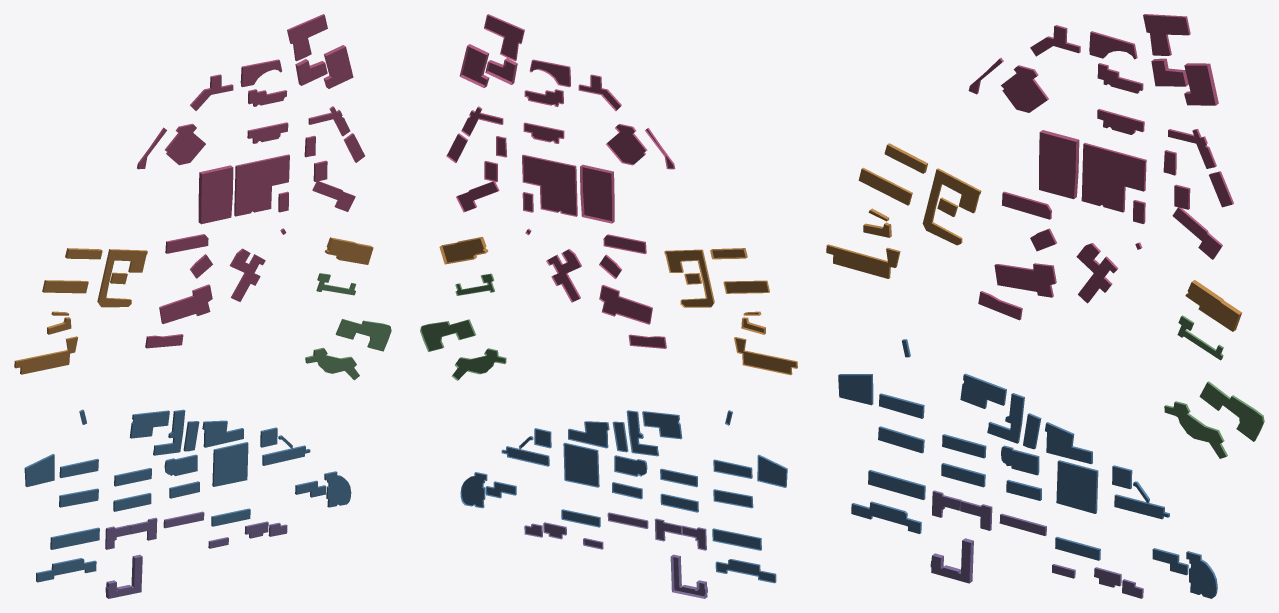
Rendered from buildings_k25.obj.
The picture shows the model from 3 angles, left to right: view 1: azimuth 30°, elevation 25°; view 2: azimuth 150°, elevation 25°; view 3: azimuth 330°, elevation 25°; orthographic projection. The views are drawn at different scales.
Parts seen in each view (by area): view 1: roof1, roof4, roof2, zone1, roof5, roof3, zone4, zone2, zone5; view 2: roof1, roof4, zone1, zone4, roof2, roof3, zone2, roof5, zone5, zone3; view 3: roof1, roof4, roof2, zone1, roof5, roof3, zone4, zone2, zone5, zone3.
Part boxes in pixels (x1,y1,x2,y2): roof1: (138,15,364,348); roof4: (26,410,351,582); roof2: (15,239,373,374); zone1: (137,14,355,348); roof5: (106,512,287,598); roof3: (306,274,391,379); zone4: (24,409,341,581); zone2: (14,237,372,374); zone5: (105,511,286,598); roof1: (447,15,673,347); roof4: (462,411,786,581); zone1: (446,14,675,348); zone4: (460,410,787,583); roof2: (442,239,796,373); roof3: (421,274,504,379); zone2: (439,237,797,375); roof5: (525,513,705,596); zone5: (524,512,707,598); zone3: (420,273,506,380); roof1: (968,15,1232,320); roof4: (838,340,1216,598); roof2: (826,145,1238,331); zone1: (977,14,1233,319); roof5: (930,491,1141,598); roof3: (1164,316,1262,458); zone4: (838,339,1217,596); zone2: (827,143,1241,331); zone5: (931,490,1143,598); zone3: (1164,315,1264,456).
Size of the model in its own units: 690 by 932 by 8.5.
